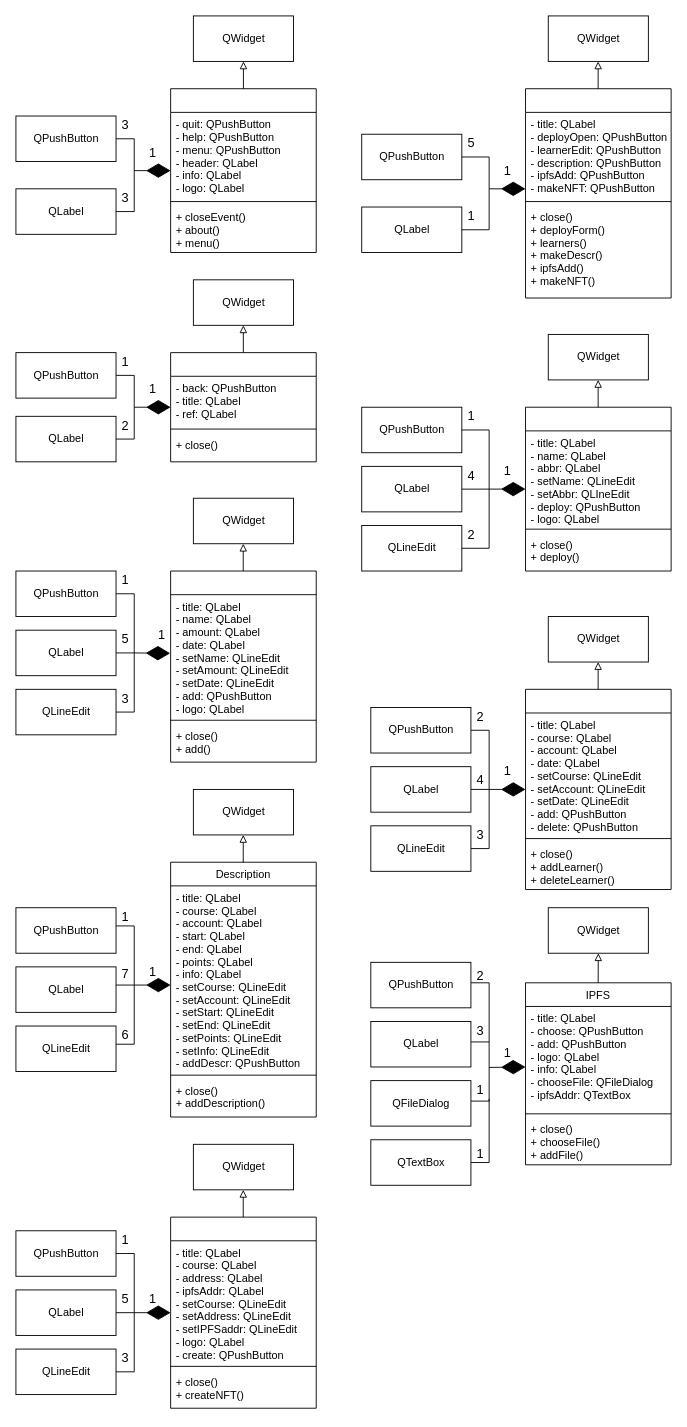
The diagram is 687 pixels wide and 1427 high, and some of its shapes have lost their labels. Here are the shapes that lost their labels. From the top down, the box of each, then its label:
(170, 88, 316, 253): Mainmenu
(525, 88, 671, 298): Functions
(170, 352, 316, 462): Help
(525, 406, 671, 571): DeployForm
(170, 570, 316, 762): AddCourse
(525, 688, 671, 890): Learners
(170, 1216, 316, 1408): NFTForm
